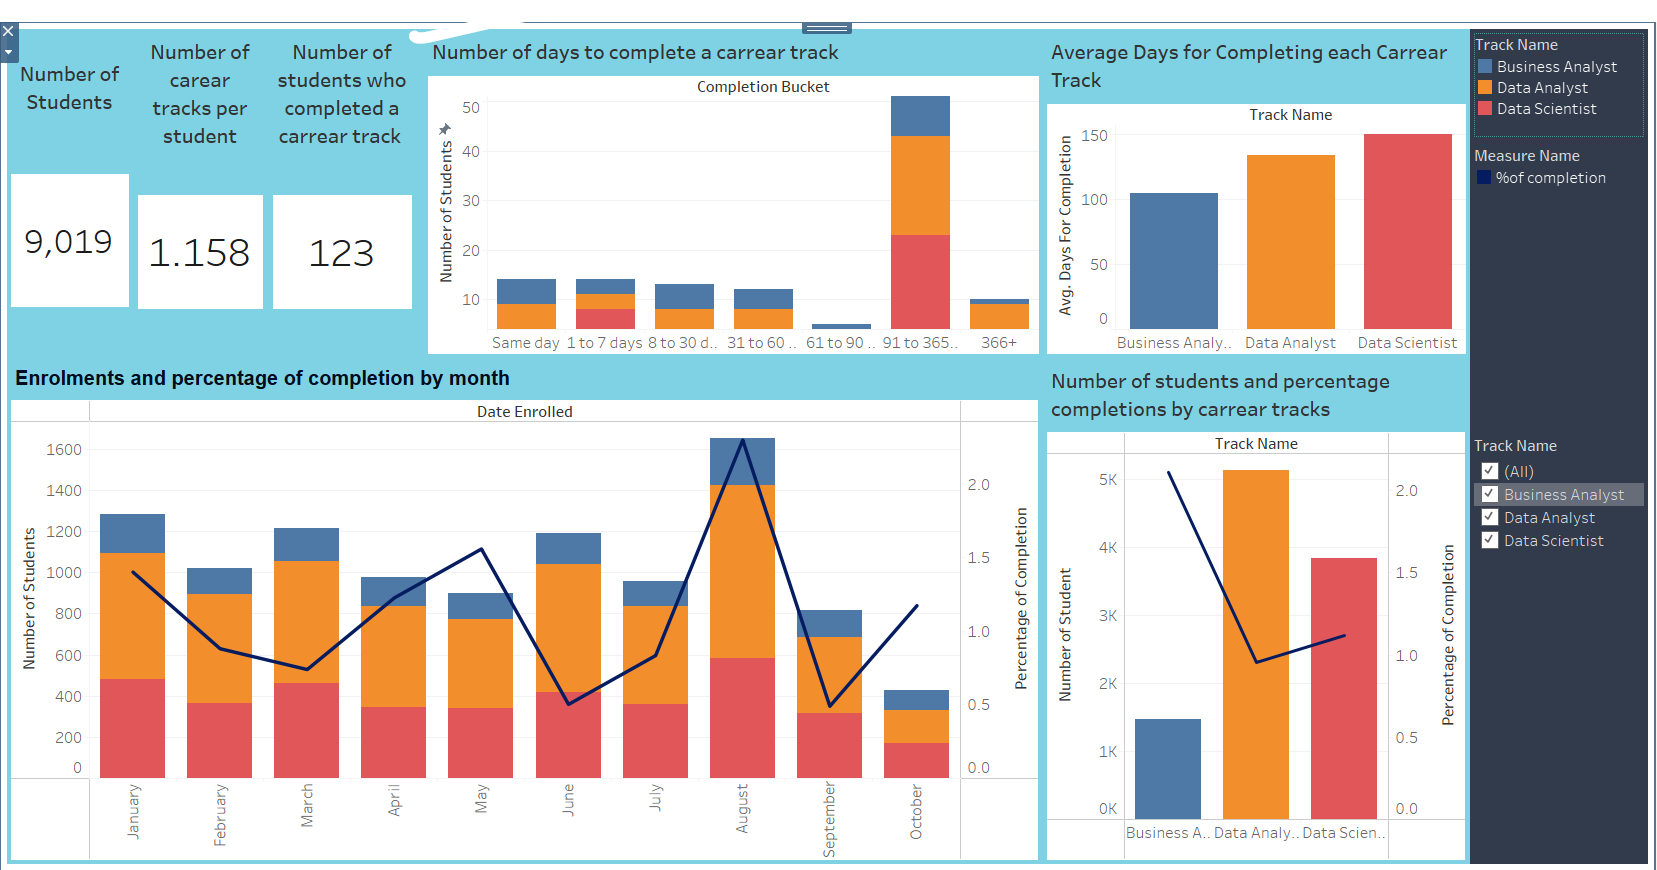

Layout of this report page (visuals, bound fields, positions):
{"tool":"tableau","page":{"name":"Dashboard 1","canvas":[1000,1000],"units":"permille","ordinal":0},"visuals":[{"type":"worksheet","title":"Number of Students","mark":"Automatic","box":[4.8,9.4,76.6,386.6]},{"type":"worksheet","title":"Number of carear tracks per student","mark":"Automatic","box":[81.5,9.4,81.6,386.6]},{"type":"worksheet","title":"Number of students who completed a carrear track ","mark":"Automatic","box":[163,9.4,93.5,386.6]},{"type":"worksheet","title":"Number of days to complete a carrear track","mark":"Bar","rows":["track_completed"],"cols":["completion_bucket"],"box":[256.5,9.4,373.7,386.6]},{"type":"worksheet","title":"Average Days for Completing each Carrear Track","mark":"Automatic","rows":["days_for_completion"],"cols":["track_name"],"box":[630.2,9.4,257.6,386.6]},{"type":"legend","title":"Enrolments and percentage of completion by month","param":"[federated.14m6phl09b99xm123nqvn08875rn].[none:track_name:nk]","box":[887.8,9.4,107.4,131.6]},{"type":"legend","title":"Enrolments and percentage of completion by month","param":"[federated.14m6phl09b99xm123nqvn08875rn].[:Measure Names]","box":[887.8,141,107.4,340.8]},{"type":"worksheet","title":"Enrolments and percentage of completion by month","mark":"Bar","rows":["student_track_id","Calculation_1042864838126755840"],"cols":["date_enrolled"],"box":[4.8,396,625.3,594.6]},{"type":"worksheet","title":"Number of students and percentage completions by carrear tracks","mark":"Automatic","rows":["student_track_id","Calculation_1042864838126755840"],"cols":["track_name"],"box":[630.2,396,257.6,594.6]},{"type":"filter","title":"Enrolments and percentage of completion by month","param":"[federated.14m6phl09b99xm123nqvn08875rn].[none:track_name:nk]","box":[887.8,481.8,107.4,208]}]}

Visuals, with their boxes on the dashboard's canvas, which has no fixed pixel size, in thousandths of its width and height (x1, y1, x2, y2). These are canvas units, not pixel positions in the 1657x870 screenshot, which may show the page scaled, cropped or inside an application window:
"Number of Students" worksheet: 5/9/81/396
"Number of carear tracks per student" worksheet: 82/9/163/396
"Number of students who completed a carrear track " worksheet: 163/9/256/396
"Number of days to complete a carrear track" worksheet (Bar marks): 256/9/630/396
"Average Days for Completing each Carrear Track" worksheet: 630/9/888/396
"Enrolments and percentage of completion by month" legend: 888/9/995/141
"Enrolments and percentage of completion by month" legend: 888/141/995/482
"Enrolments and percentage of completion by month" worksheet (Bar marks): 5/396/630/991
"Number of students and percentage completions by carrear tracks" worksheet: 630/396/888/991
"Enrolments and percentage of completion by month" filter: 888/482/995/690
